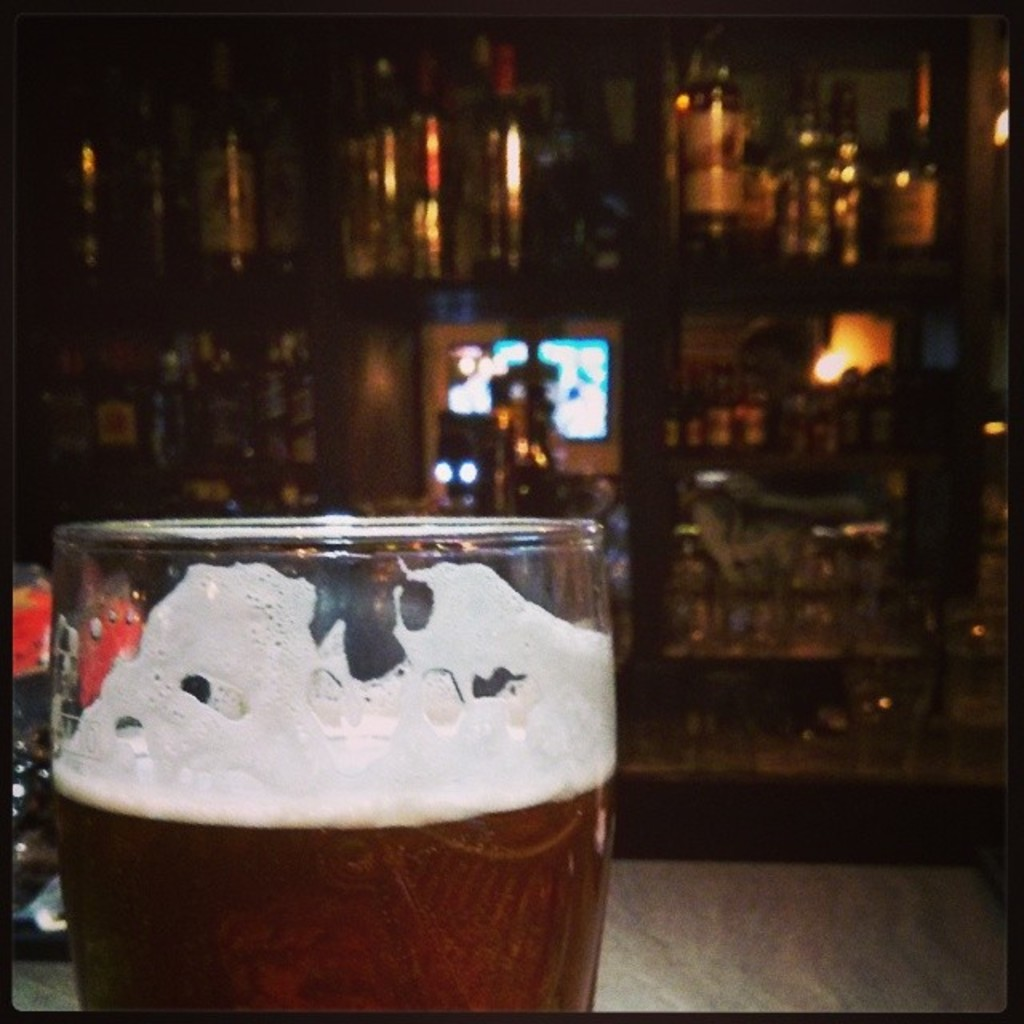Beer: (17, 523, 606, 1024)
